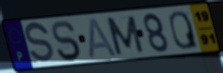8: (142, 12, 169, 54)
A: (88, 17, 119, 60)
M: (104, 14, 146, 57)
Q: (168, 10, 200, 51)
S: (24, 21, 56, 67), (50, 20, 82, 62)
